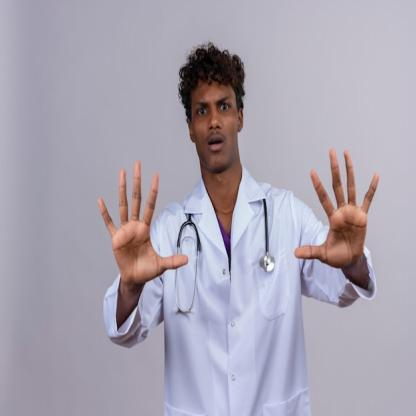stop: (96, 156, 190, 291), (293, 145, 381, 274)
